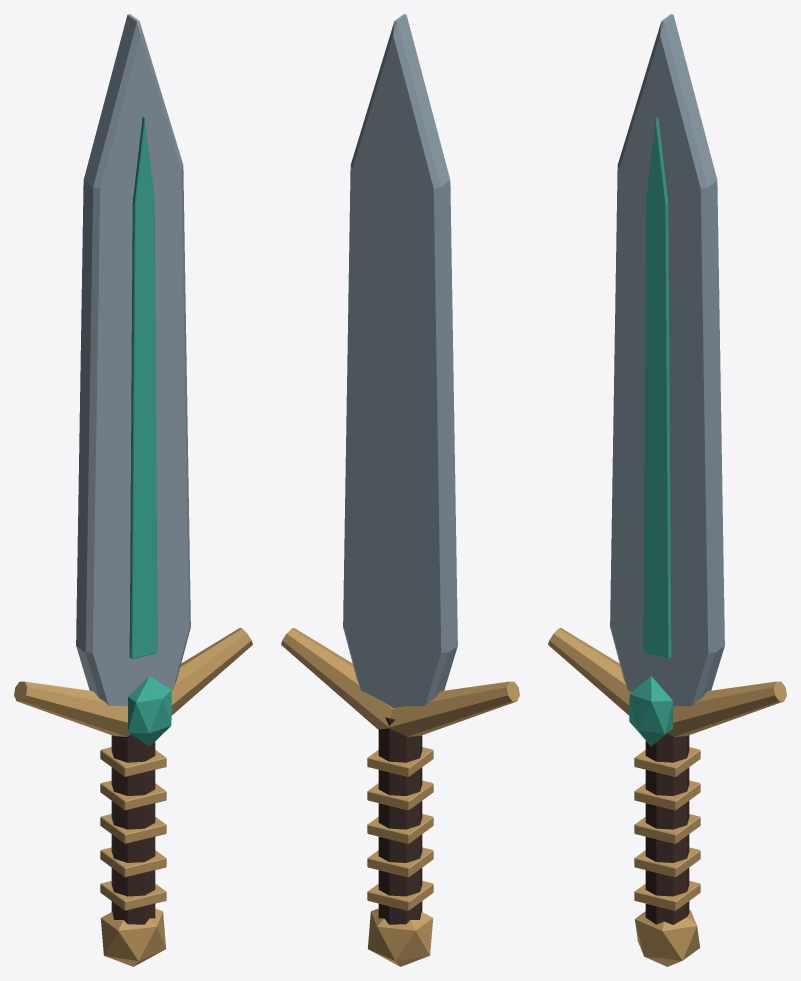
The model's file is forge-greatsword-v2.glb.
3 views of the same model, side by side, from view 1: azimuth 30°, elevation 25°; view 2: azimuth 150°, elevation 25°; view 3: azimuth 330°, elevation 25° (orthographic).
Visible parts, largest first — view 1: forge-greatsword-v2; view 2: forge-greatsword-v2; view 3: forge-greatsword-v2.
Part boxes in pixels (bbox=[...]): forge-greatsword-v2: bbox=[14, 14, 252, 966]; forge-greatsword-v2: bbox=[281, 14, 519, 966]; forge-greatsword-v2: bbox=[548, 14, 786, 966].
Bounding box in the file's own units: 0.6211 × 2.41 × 0.1703.
